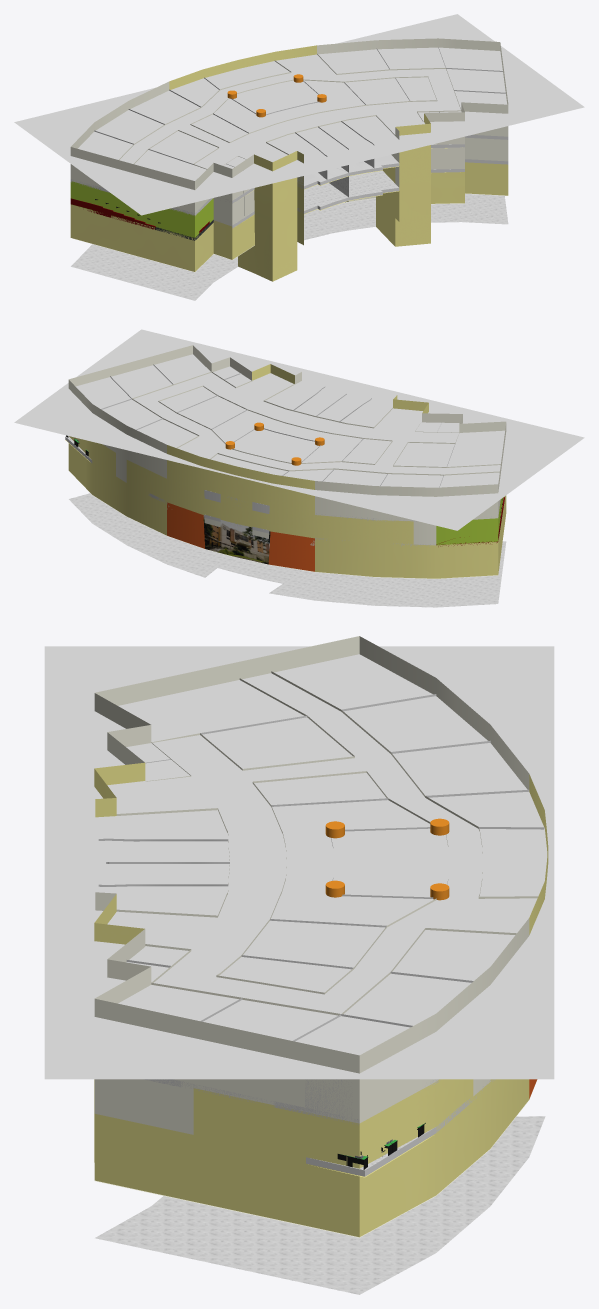
Rendered from dcs_floor1.fbx.
3 renders of one model, top to bottom at view 1: azimuth 30°, elevation 25°; view 2: azimuth 150°, elevation 25°; view 3: azimuth 270°, elevation 25°, orthographic. The views are drawn at different scales.
Parts seen in each view (by area): view 1: roof, 1stfloor, basement, 3rdfloor, 2ndfloor, stairs; view 2: roof, 1stfloor, basement, 3rdfloor, 2ndfloor, 1stfloor_ceiling; view 3: roof, 1stfloor, basement, 3rdfloor, 2ndfloor.
Part boxes in pixels (x1,y1,x2,y2): roof: (14, 14, 584, 215); 1stfloor: (70, 38, 508, 281); basement: (71, 193, 508, 300); 3rdfloor: (70, 47, 508, 215); 2ndfloor: (87, 159, 508, 240); stairs: (70, 198, 155, 227); roof: (14, 329, 584, 530); 1stfloor: (68, 345, 506, 578); basement: (69, 493, 506, 607); 3rdfloor: (101, 364, 500, 521); 2ndfloor: (65, 436, 498, 546); 1stfloor_ceiling: (69, 471, 497, 578); roof: (44, 646, 554, 1079); 1stfloor: (94, 636, 548, 1237); basement: (95, 1116, 545, 1294); 3rdfloor: (98, 671, 544, 1125); 2ndfloor: (306, 1079, 495, 1176).
Bounding box in the file's own units: 2281 × 590 × 1135.
Materials: 7 (7 with a texture image).
